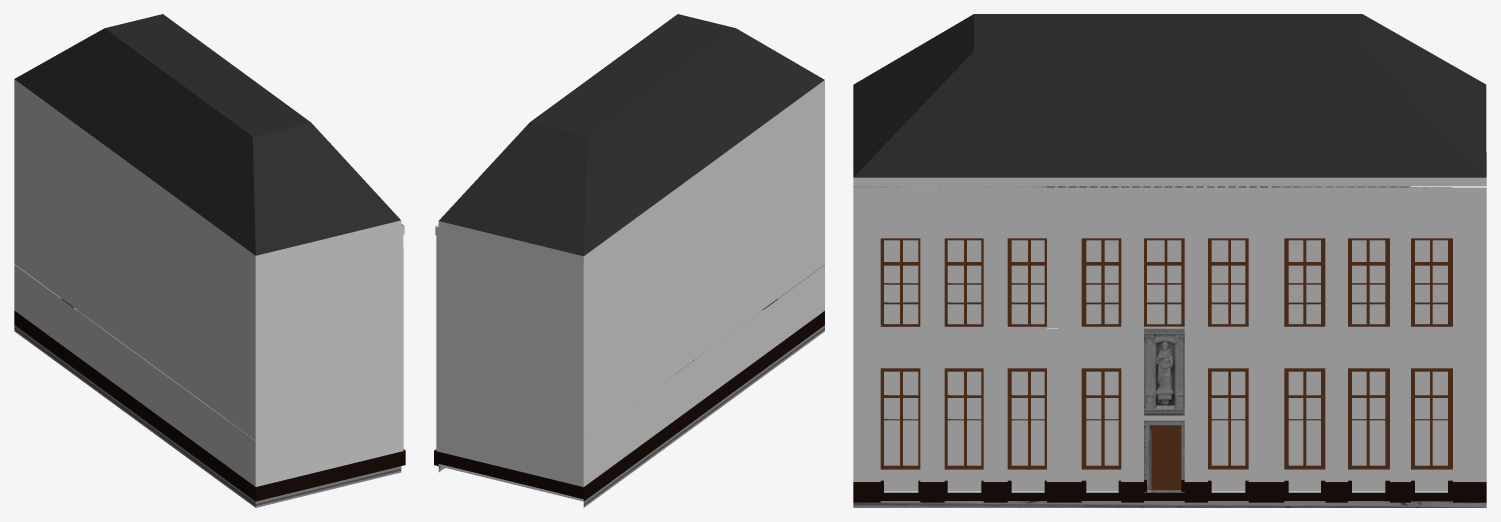
File: asset.glb
The picture shows the model from 3 angles, left to right: view 1: azimuth 30°, elevation 25°; view 2: azimuth 150°, elevation 25°; view 3: azimuth 270°, elevation 25°; orthographic projection. The views are drawn at different scales.
Visible parts, largest first — view 1: St Joseph School 1 unskewed; view 2: St Joseph School 1 unskewed; view 3: St Joseph School 1 unskewed.
Boxes of the visible parts, x1=… form: St Joseph School 1 unskewed: x1=14, y1=14, x2=405, y2=507; St Joseph School 1 unskewed: x1=434, y1=14, x2=824, y2=507; St Joseph School 1 unskewed: x1=853, y1=14, x2=1486, y2=507.
Bounding box in the file's own units: 6.72 × 14 × 18.74.
6 materials, 1 textured.
